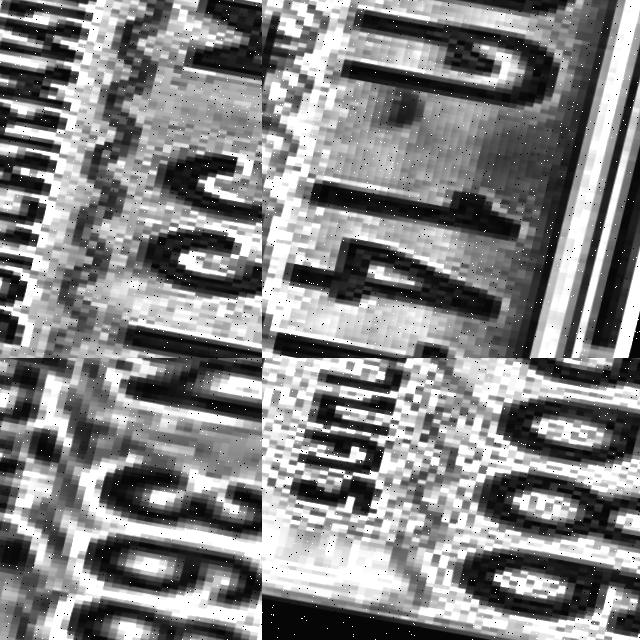license-plate: (262, 0, 640, 358), (262, 358, 640, 640), (0, 0, 262, 358), (0, 358, 262, 640)
